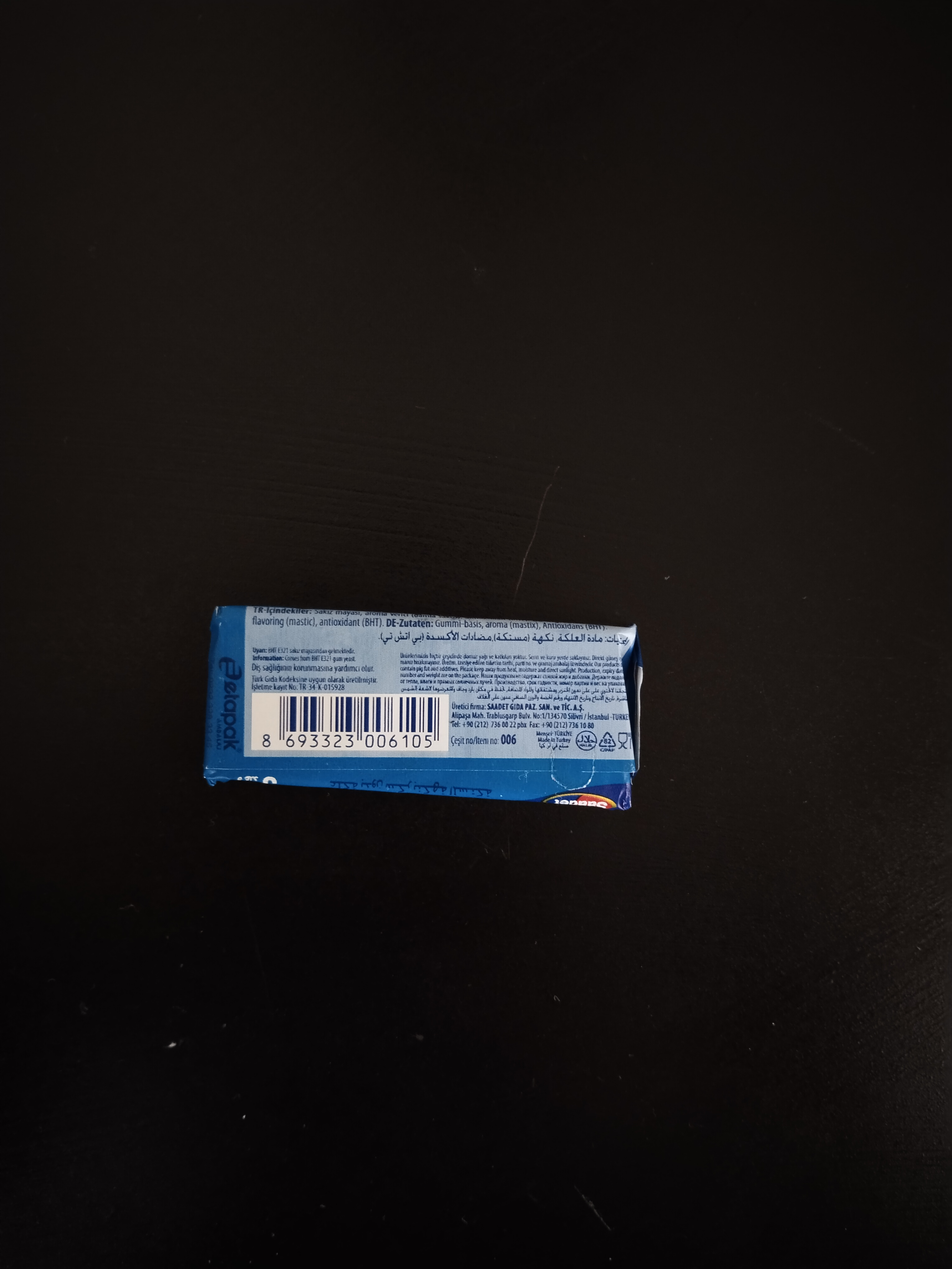mahmood_kahve: (205, 607, 640, 806)
